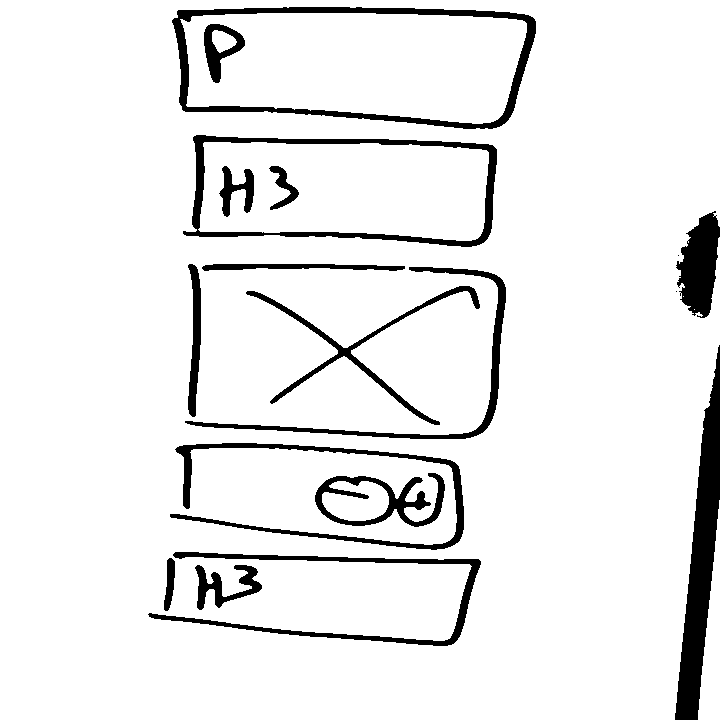heading3: (178, 130, 503, 255), (148, 548, 487, 652)
inline stepper bar: (172, 438, 473, 552)
paragraph: (170, 4, 540, 138)
picture: (183, 260, 511, 443)
